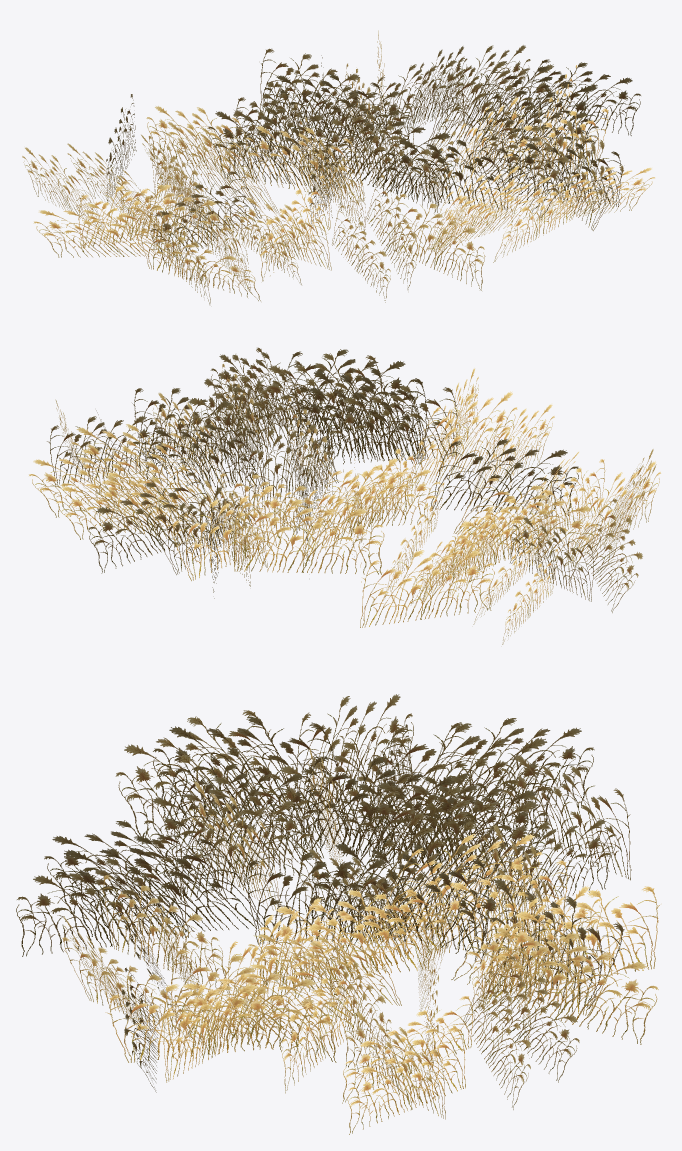
Rendered from reeds_lod0.glb.
3 views of the same model, one above another, from view 1: azimuth 30°, elevation 25°; view 2: azimuth 150°, elevation 25°; view 3: azimuth 270°, elevation 25° (orthographic). The views are drawn at different scales.
Parts seen in each view (by area): view 1: reeds_lod0; view 2: reeds_lod0; view 3: reeds_lod0.
Part boxes in pixels (bbox=[...]): reeds_lod0: bbox=[22, 30, 654, 304]; reeds_lod0: bbox=[29, 347, 660, 644]; reeds_lod0: bbox=[16, 694, 659, 1134].
Bounding box in the file's own units: 15.41 × 2.21 × 10.91.
Materials: 1 (1 with a texture image).
